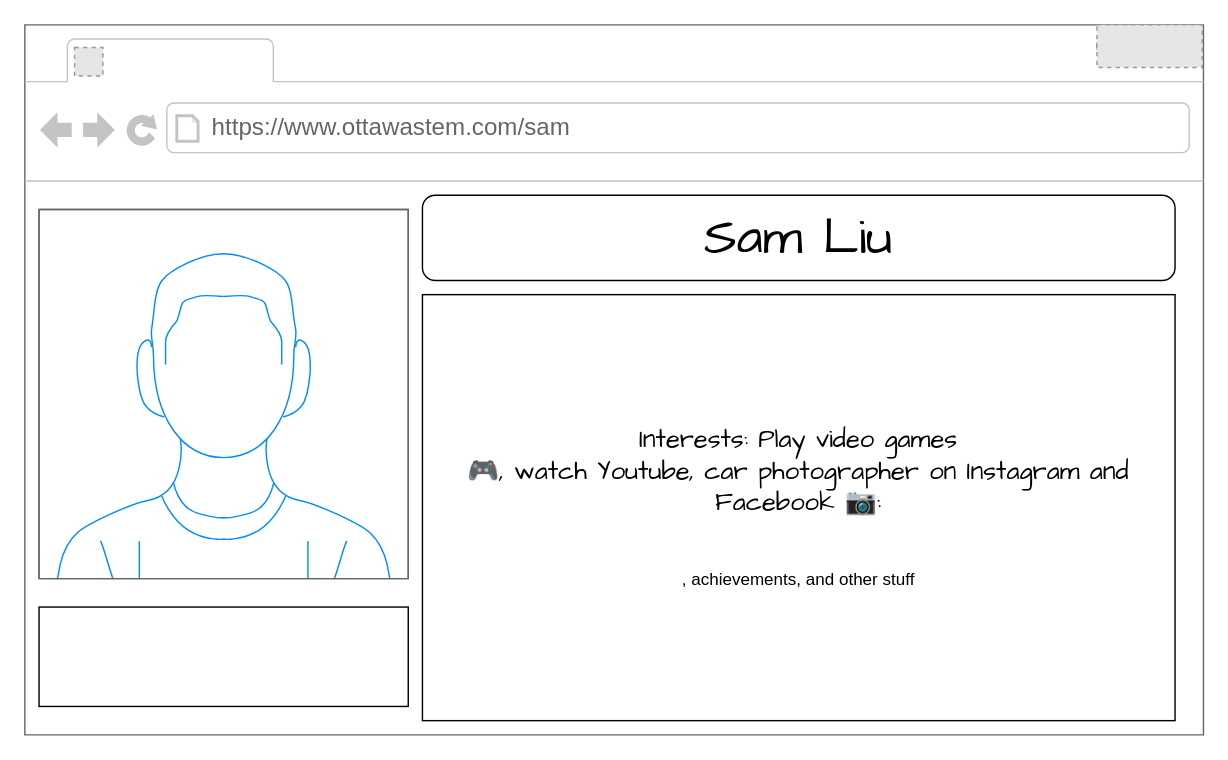
The diagram is 1228 pixels wide and 760 high, and some of its shapes have lost their labels. Grey dashed boxes stand in for pictures. Here are the shapes that lost their labels. From the top down, the centre of each, then its label:
pixel 230 64: Profile Page
pixel 223 656: Age: 13 School: St.Mark High School
